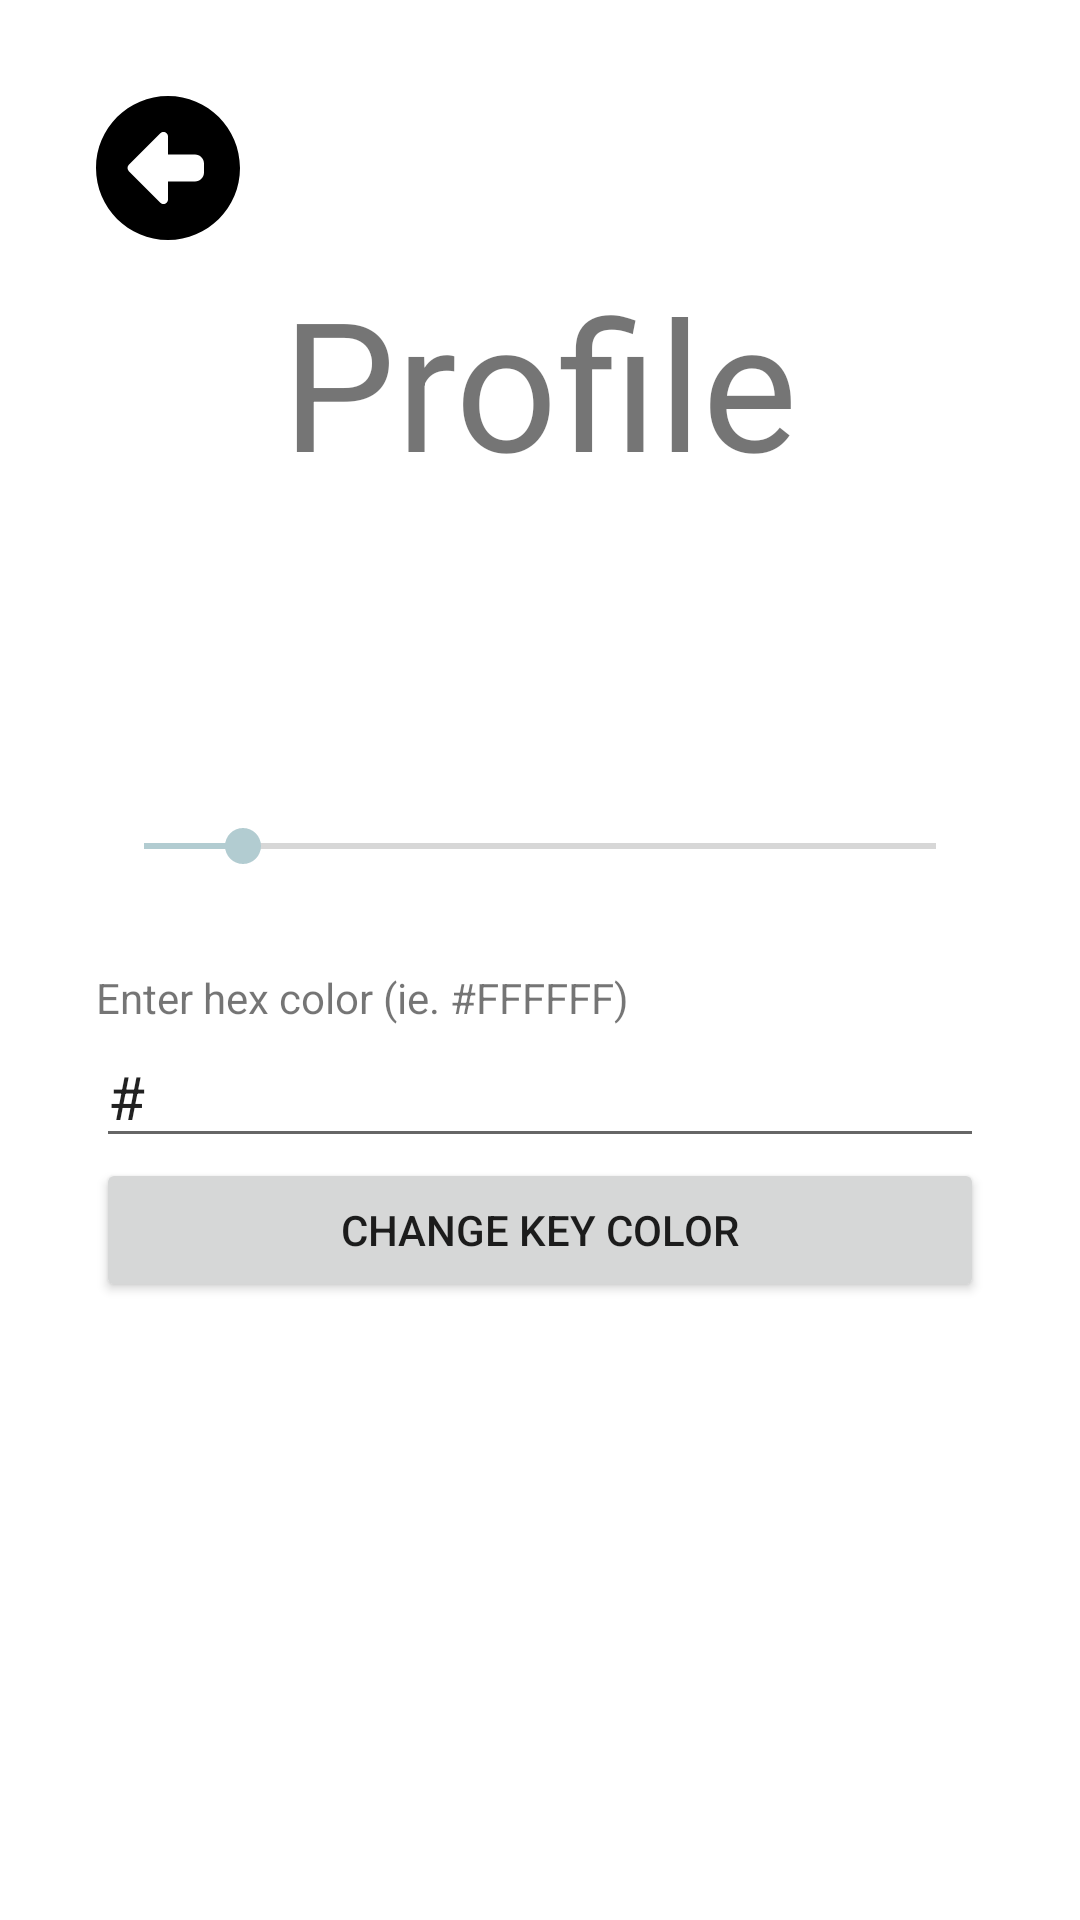

Icon click points for this 1080×1920 phone screenshot, format point (x, y):
back: point (168, 168)
